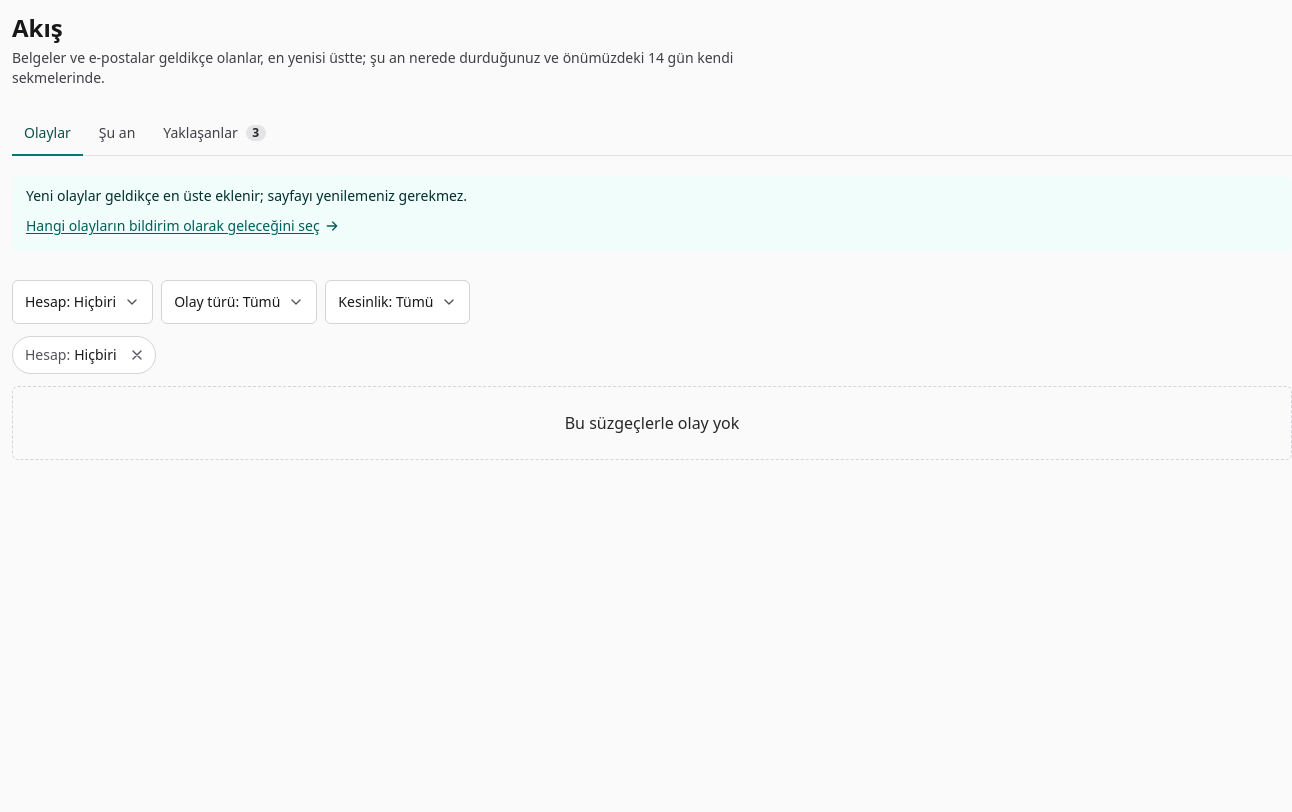
Test: FeedPage: the events › asks nothing when a filter has none of its choices, and says nothing matches
Check: the text "Bu süzgeçlerle olay yok" is shown, box [565, 412, 739, 434]
Click the button named "Hesap süzgecini kaldır" at [136, 355], box [120, 339, 152, 371]
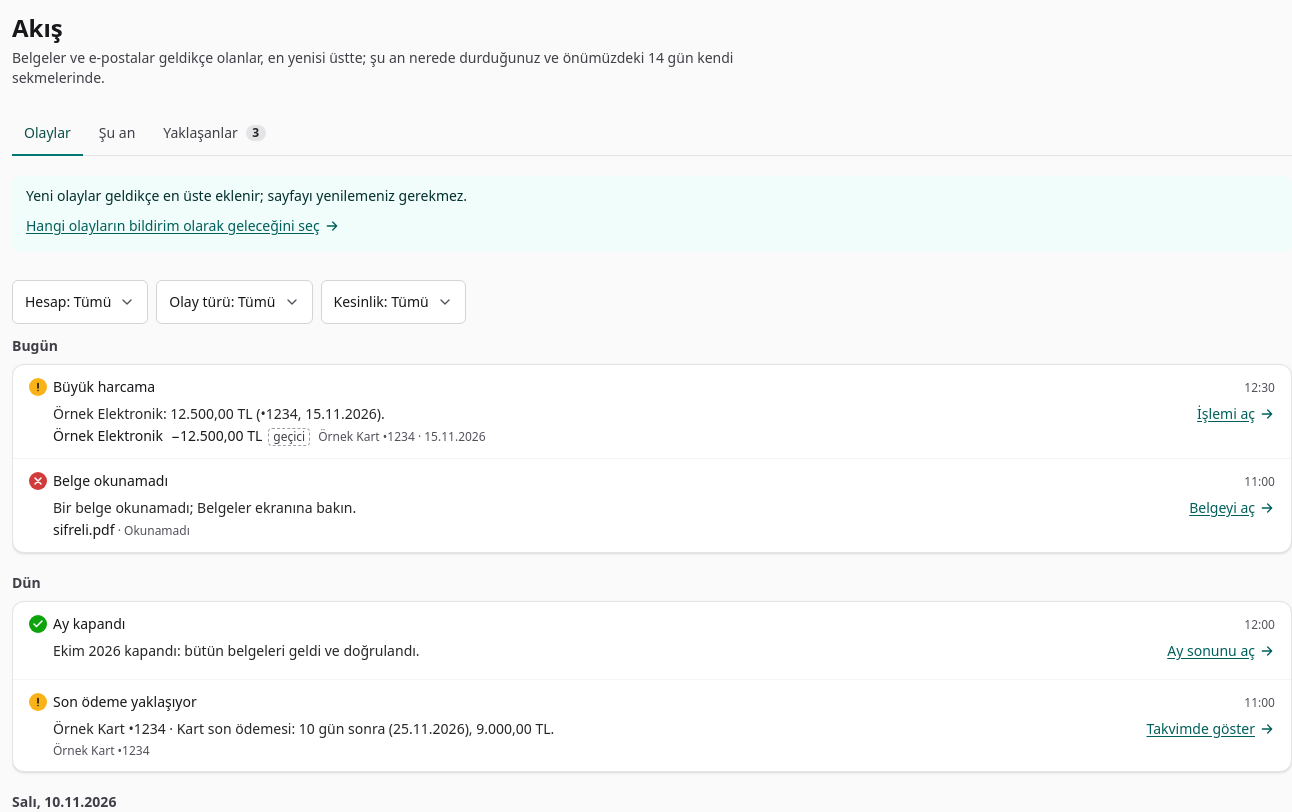
Check: the element "Büyük harcama" is shown, box [13, 365, 1291, 458]
